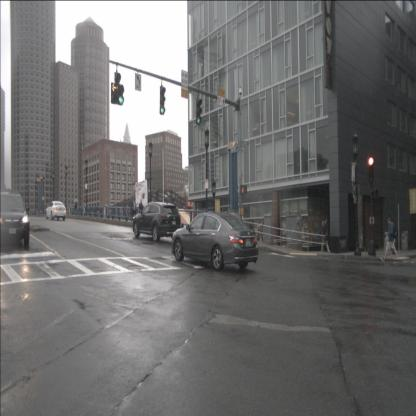human-pedestrian-adult: (380, 216, 398, 263), (320, 220, 331, 253), (131, 197, 137, 222), (139, 198, 144, 223), (73, 198, 79, 217)
vehicle-car: (171, 210, 259, 272), (132, 201, 182, 242), (0, 190, 30, 246), (46, 200, 66, 221)
